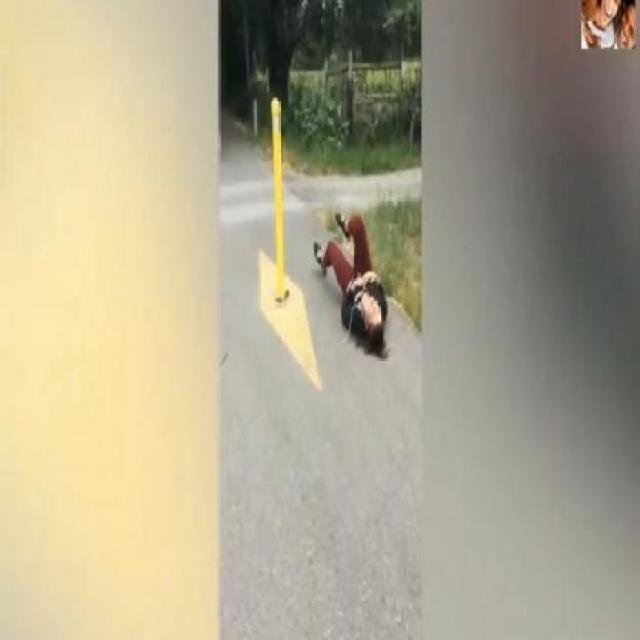fall: (312, 199, 397, 363)
